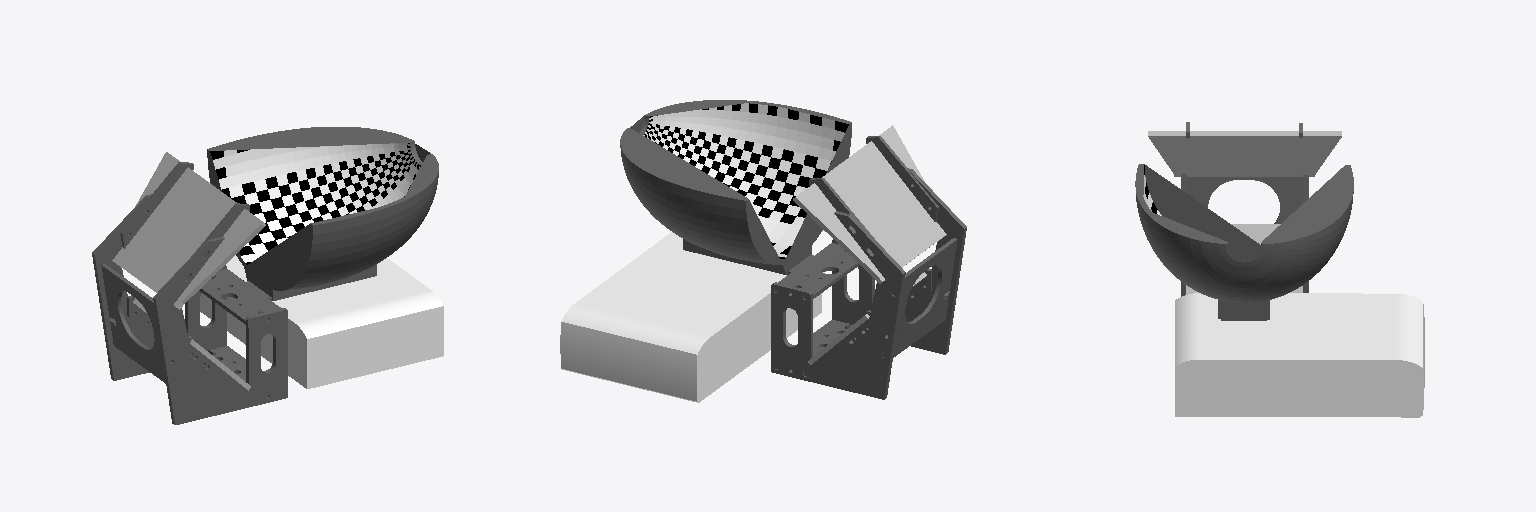
The model's file is Bowl_Arena.obj.
3 views of the same model, side by side, from view 1: azimuth 30°, elevation 25°; view 2: azimuth 150°, elevation 25°; view 3: azimuth 270°, elevation 25° (orthographic).
Visible parts, largest first — view 1: Mesh4 Component_11_1 Model, Mesh10 Component_17_1 Model, Mesh11 Component_31_1 Model, Mesh6 Component_29_1 Model, Mesh12 Component_31_2 Model, Mesh1 Component_33_1 Model, Mesh3 Component_25_1 Model, Mesh9 Component_32_1 Model, Mesh7 Component_34_1 Model, Mesh13 Component_32_2 Model; view 2: Mesh4 Component_11_1 Model, Mesh10 Component_17_1 Model, Mesh12 Component_31_2 Model, Mesh6 Component_29_1 Model, Mesh11 Component_31_1 Model, Mesh1 Component_33_1 Model, Mesh3 Component_25_1 Model, Mesh13 Component_32_2 Model, Mesh7 Component_34_1 Model, Mesh9 Component_32_1 Model; view 3: Mesh10 Component_17_1 Model, Mesh4 Component_11_1 Model, Mesh6 Component_29_1 Model, Mesh1 Component_33_1 Model, Mesh2 Component_30_1 Model.
Part boxes in pixels (left/top/right/bottom): Mesh4 Component_11_1 Model: left=207, top=127, right=438, bottom=300; Mesh10 Component_17_1 Model: left=200, top=255, right=443, bottom=388; Mesh11 Component_31_1 Model: left=153, top=237, right=287, bottom=424; Mesh6 Component_29_1 Model: left=112, top=152, right=265, bottom=309; Mesh12 Component_31_2 Model: left=92, top=194, right=226, bottom=380; Mesh1 Component_33_1 Model: left=101, top=264, right=177, bottom=383; Mesh3 Component_25_1 Model: left=199, top=269, right=284, bottom=325; Mesh9 Component_32_1 Model: left=120, top=162, right=193, bottom=248; Mesh7 Component_34_1 Model: left=209, top=346, right=284, bottom=402; Mesh13 Component_32_2 Model: left=185, top=203, right=249, bottom=279; Mesh4 Component_11_1 Model: left=620, top=100, right=851, bottom=274; Mesh10 Component_17_1 Model: left=560, top=232, right=821, bottom=402; Mesh12 Component_31_2 Model: left=771, top=211, right=905, bottom=399; Mesh6 Component_29_1 Model: left=793, top=125, right=946, bottom=283; Mesh11 Component_31_1 Model: left=832, top=168, right=966, bottom=354; Mesh1 Component_33_1 Model: left=882, top=238, right=957, bottom=357; Mesh3 Component_25_1 Model: left=775, top=243, right=859, bottom=299; Mesh13 Component_32_2 Model: left=866, top=136, right=938, bottom=221; Mesh7 Component_34_1 Model: left=775, top=320, right=849, bottom=375; Mesh9 Component_32_1 Model: left=809, top=178, right=874, bottom=238; Mesh10 Component_17_1 Model: left=1175, top=293, right=1424, bottom=417; Mesh4 Component_11_1 Model: left=1135, top=164, right=1353, bottom=319; Mesh6 Component_29_1 Model: left=1148, top=131, right=1341, bottom=176; Mesh1 Component_33_1 Model: left=1187, top=177, right=1302, bottom=223; Mesh2 Component_30_1 Model: left=1186, top=224, right=1302, bottom=294.
Size of the model in its own units: 240 by 156 by 201.